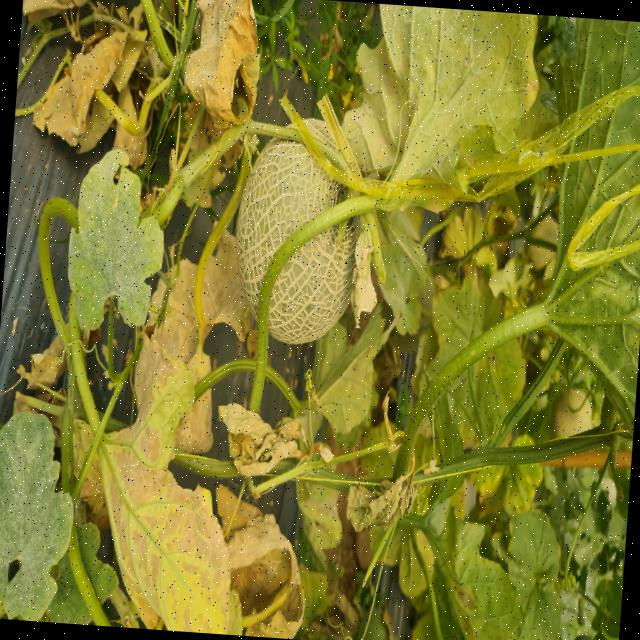melon: (234, 138, 341, 318), (267, 215, 358, 345)
